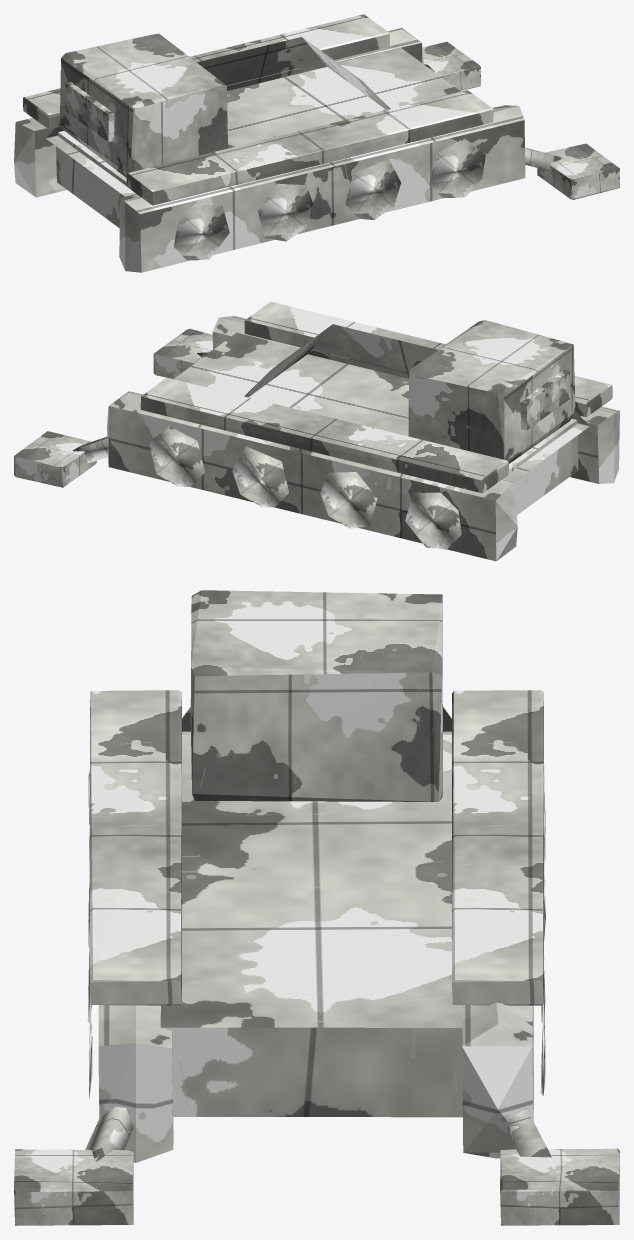
Rendered from artillery_body_lod.glb.
3 renders of one model, top to bottom at view 1: azimuth 30°, elevation 25°; view 2: azimuth 150°, elevation 25°; view 3: azimuth 270°, elevation 25°, orthographic. The views are drawn at different scales.
Parts seen in each view (by area): view 1: artillery_body_lod; view 2: artillery_body_lod; view 3: artillery_body_lod.
Part boxes in pixels (bbox=[...]): artillery_body_lod: bbox=[14, 14, 619, 272]; artillery_body_lod: bbox=[14, 301, 619, 561]; artillery_body_lod: bbox=[14, 590, 619, 1225].
Bounding box in the file's own units: 3.79 × 1.17 × 2.44.
Materials: 1 (1 with a texture image).
